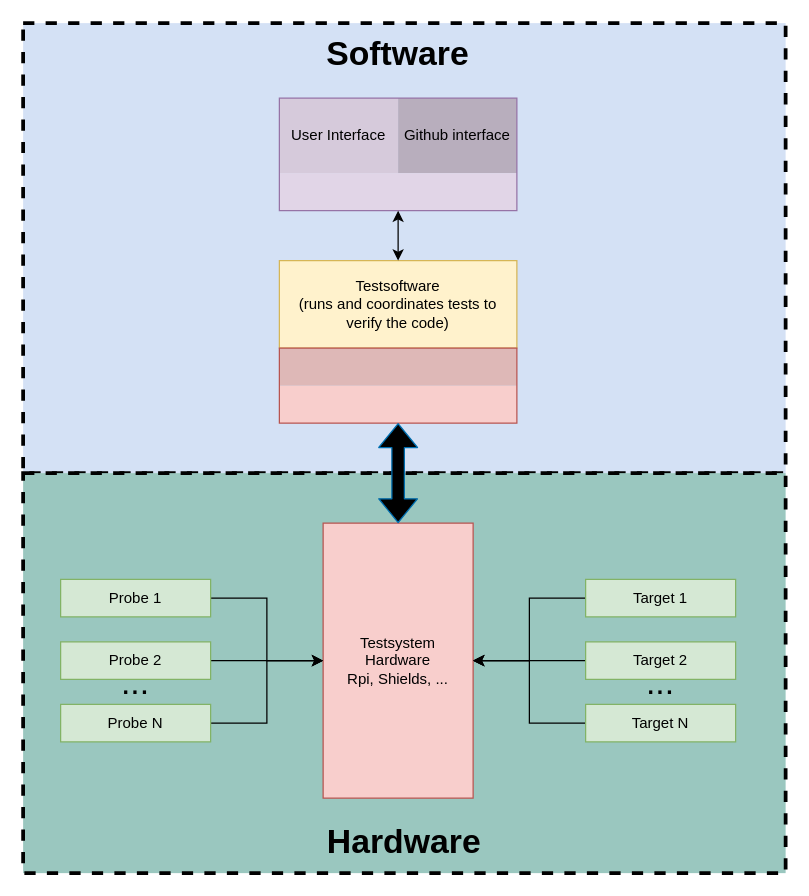
Some shapes in this 809 by 896 pixel diagram are drawn without their labels. Each missing label, with the centre of its shape:
"API to control hardware" belongs at point 397,366.
"Firmware (Hardware Drivers)" belongs at point 397,403.
"Webserver" belongs at point 397,191.
